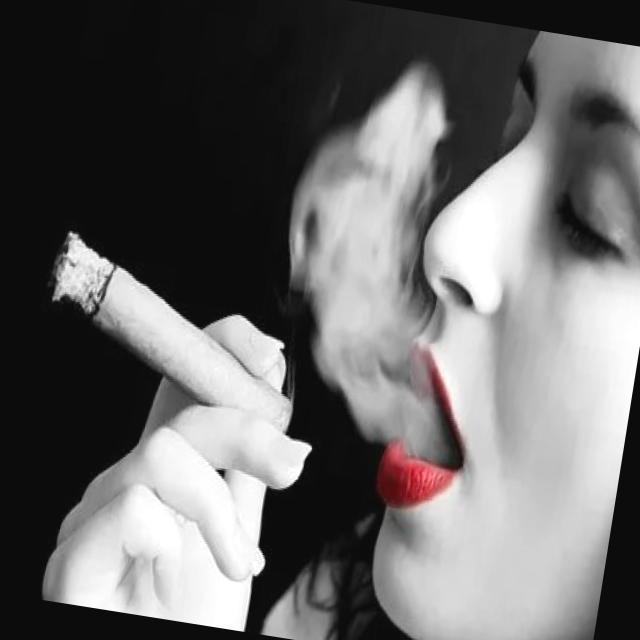cigarette: (25, 218, 324, 452)
